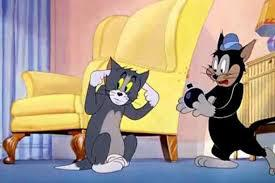tom: (53, 56, 161, 175)
